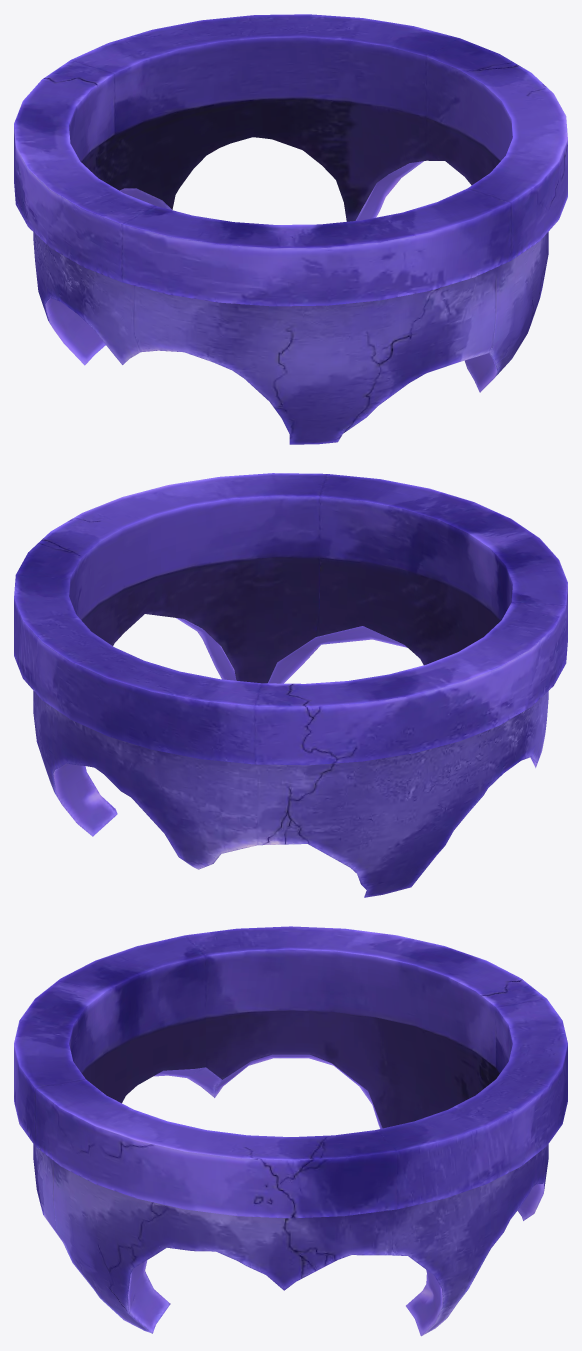
The model's file is bowl.glb.
3 views of the same model, one above another, from view 1: azimuth 30°, elevation 25°; view 2: azimuth 150°, elevation 25°; view 3: azimuth 270°, elevation 25° (orthographic).
Parts seen in each view (by area): view 1: Cylinder; view 2: Cylinder; view 3: Cylinder.
Boxes of the visible parts, left/top/right/bottom form: Cylinder: left=14, top=14, right=567, bottom=444; Cylinder: left=14, top=473, right=567, bottom=897; Cylinder: left=14, top=926, right=567, bottom=1336.
Size of the model in its own units: 2.15 by 0.9663 by 2.15.
1 material, 1 textured.
